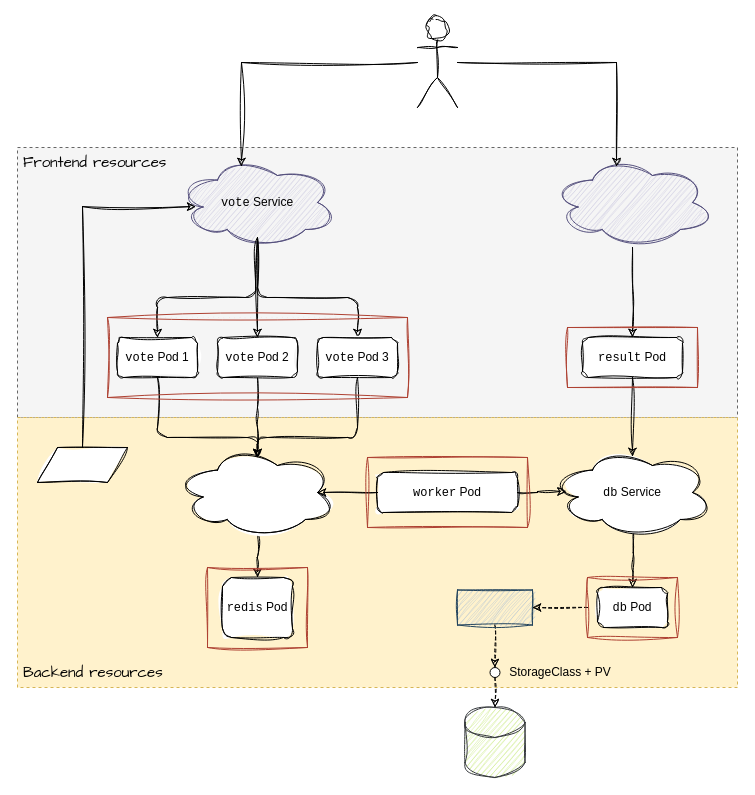
This 755x795 diagram has some shape labels left out. Here are the shapes that lost their labels. From the top down, the centre of each, then its label:
At [632,202]: "result Service".
At [82,464]: "seed Job".
At [257,492]: "redis Service".
At [494,607]: "db-data PVC".
At [494,742]: "GCE disk".
